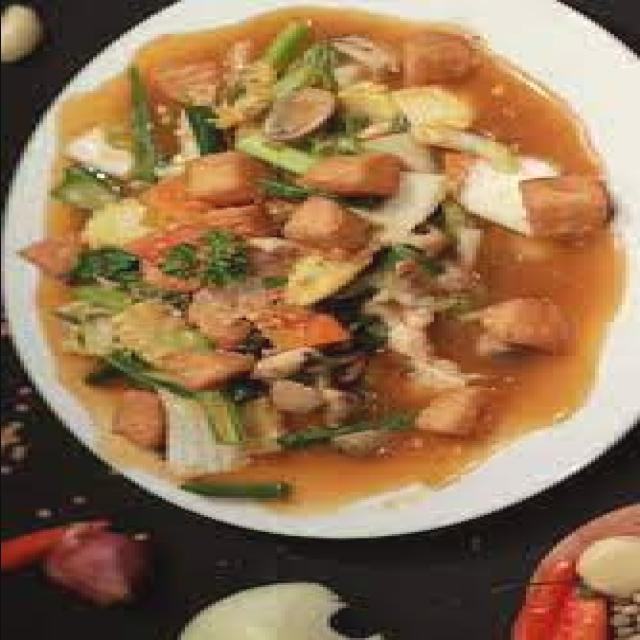capcay: (19, 15, 625, 528)
